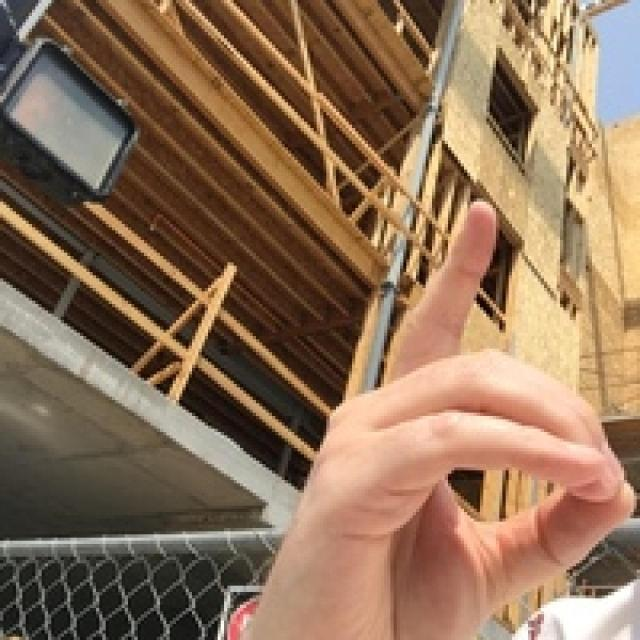D: (247, 145, 640, 640)
